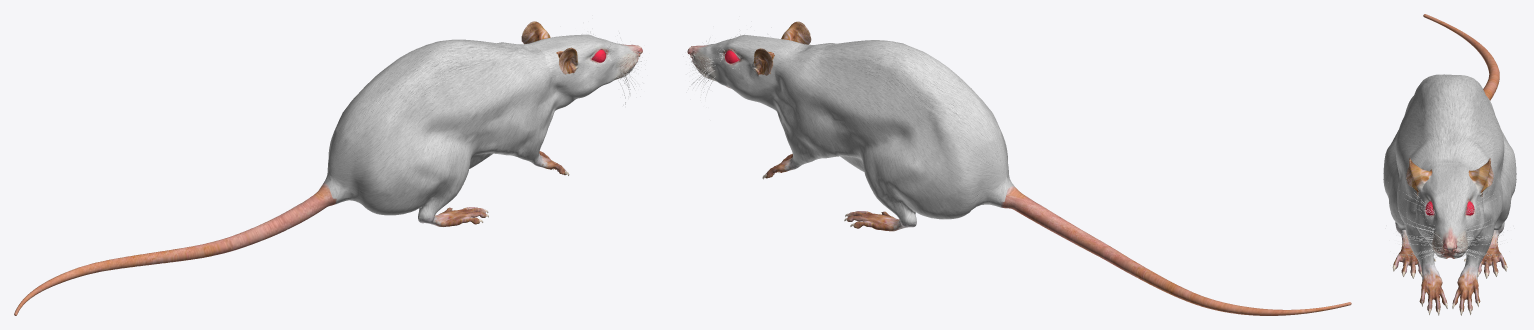
File: lab-rat.glb
3 views of the same model, side by side, from view 1: azimuth 30°, elevation 25°; view 2: azimuth 150°, elevation 25°; view 3: azimuth 270°, elevation 25° (orthographic). The views are drawn at different scales.
Parts seen in each view (by area): view 1: Object_81, Object_78, Object_11, Object_82, Object_10; view 2: Object_81, Object_11, Object_78, Object_82, Object_10; view 3: Object_81, Object_11, Object_82, Object_69, Object_10, Object_78, Object_15, Object_92.
Part boxes in pixels (x1,y1,x2,y2): Object_81: [323, 39, 552, 219]; Object_78: [14, 182, 336, 315]; Object_11: [530, 34, 642, 116]; Object_82: [418, 151, 566, 226]; Object_10: [521, 21, 579, 74]; Object_81: [779, 40, 1014, 224]; Object_11: [687, 35, 802, 118]; Object_78: [1000, 186, 1351, 315]; Object_82: [765, 154, 916, 231]; Object_10: [751, 21, 811, 75]; Object_81: [1383, 74, 1516, 267]; Object_11: [1413, 162, 1486, 258]; Object_82: [1393, 225, 1507, 312]; Object_69: [1393, 191, 1501, 263]; Object_10: [1406, 158, 1493, 197]; Object_78: [1423, 14, 1499, 100]; Object_15: [1392, 258, 1506, 315]; Object_92: [1425, 201, 1474, 215].
Bounding box in the file's own units: 12951 × 3184 × 2192.
Materials: 11 (5 with a texture image).
